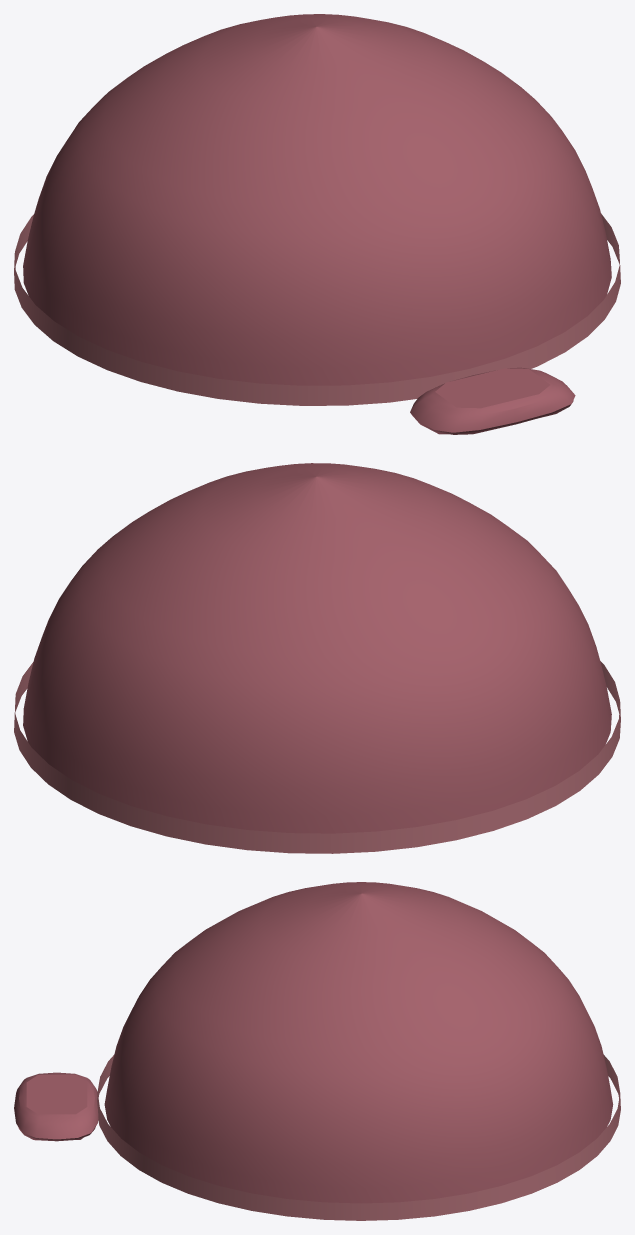
File: cap_leather.glb
3 renders of one model, top to bottom at view 1: azimuth 30°, elevation 25°; view 2: azimuth 150°, elevation 25°; view 3: azimuth 270°, elevation 25°, orthographic. The views are drawn at different scales.
Parts seen in each view (by area): view 1: cap_leather; view 2: cap_leather; view 3: cap_leather.
Boxes of the visible parts, x1,y1,x2,y2 form: cap_leather: (14, 14, 620, 434); cap_leather: (14, 463, 620, 853); cap_leather: (14, 882, 620, 1220).
Size of the model in its own units: 0.7228 by 0.331 by 0.8341.
